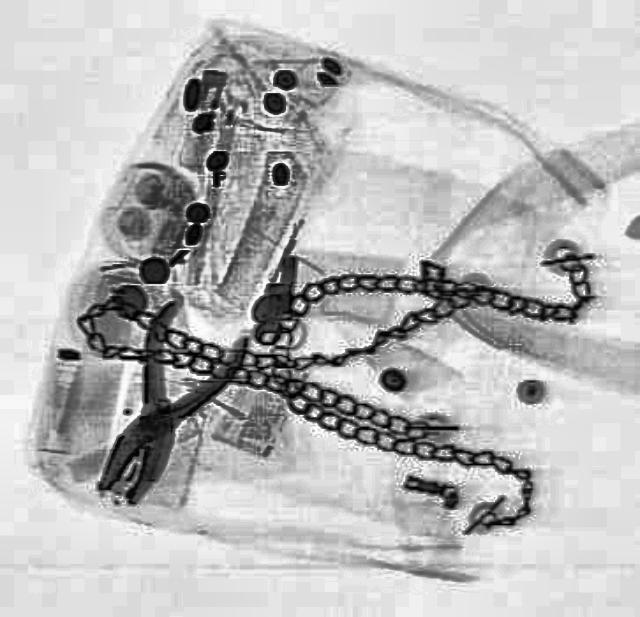Pliers: (64, 293, 256, 513)
